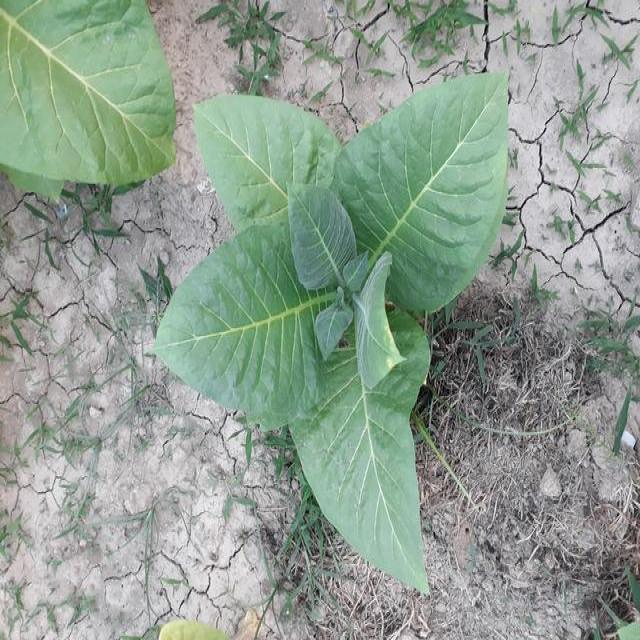crop: (168, 58, 523, 599)
